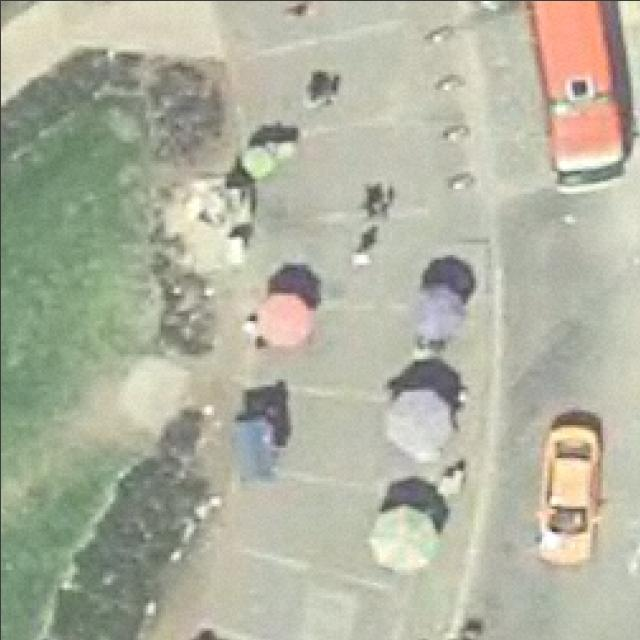vendedor_ambulante: (377, 386, 459, 462), (368, 501, 442, 572), (402, 278, 470, 347), (228, 413, 284, 487), (250, 290, 316, 350)
